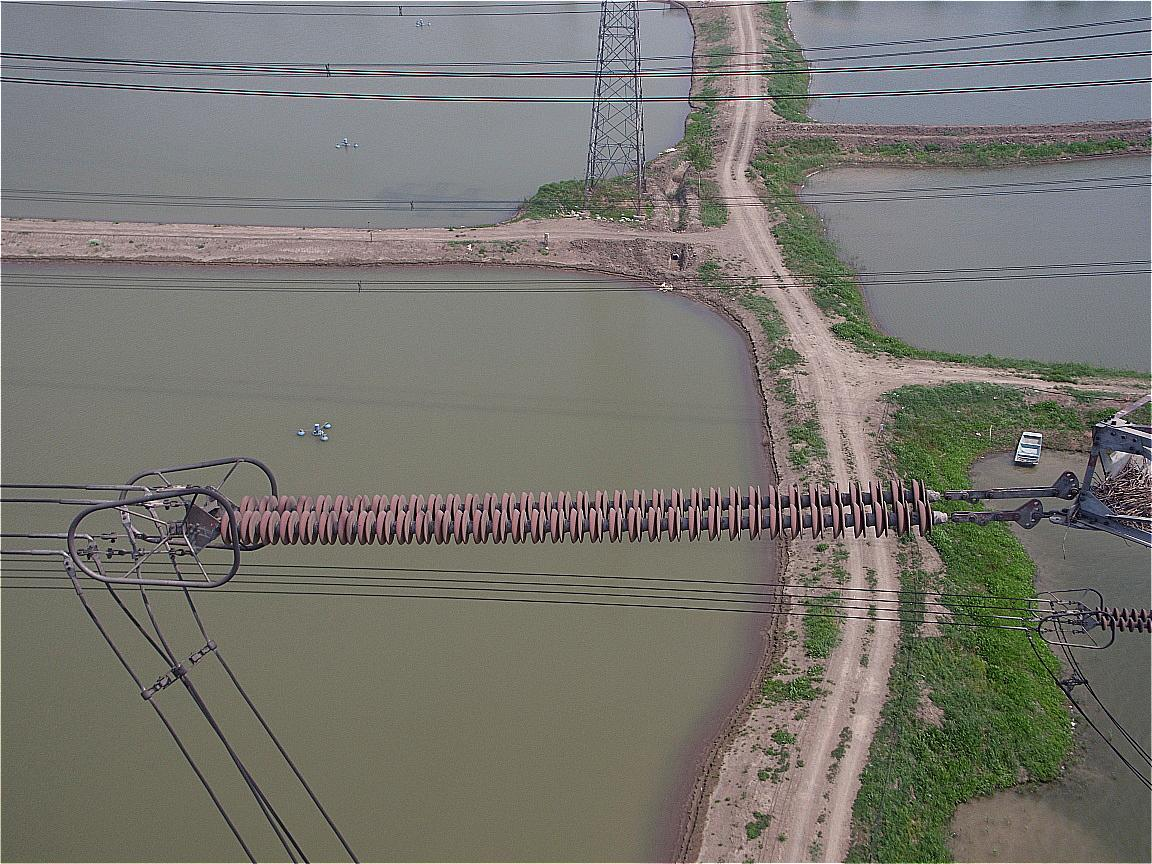insultor2: (219, 480, 932, 545)
